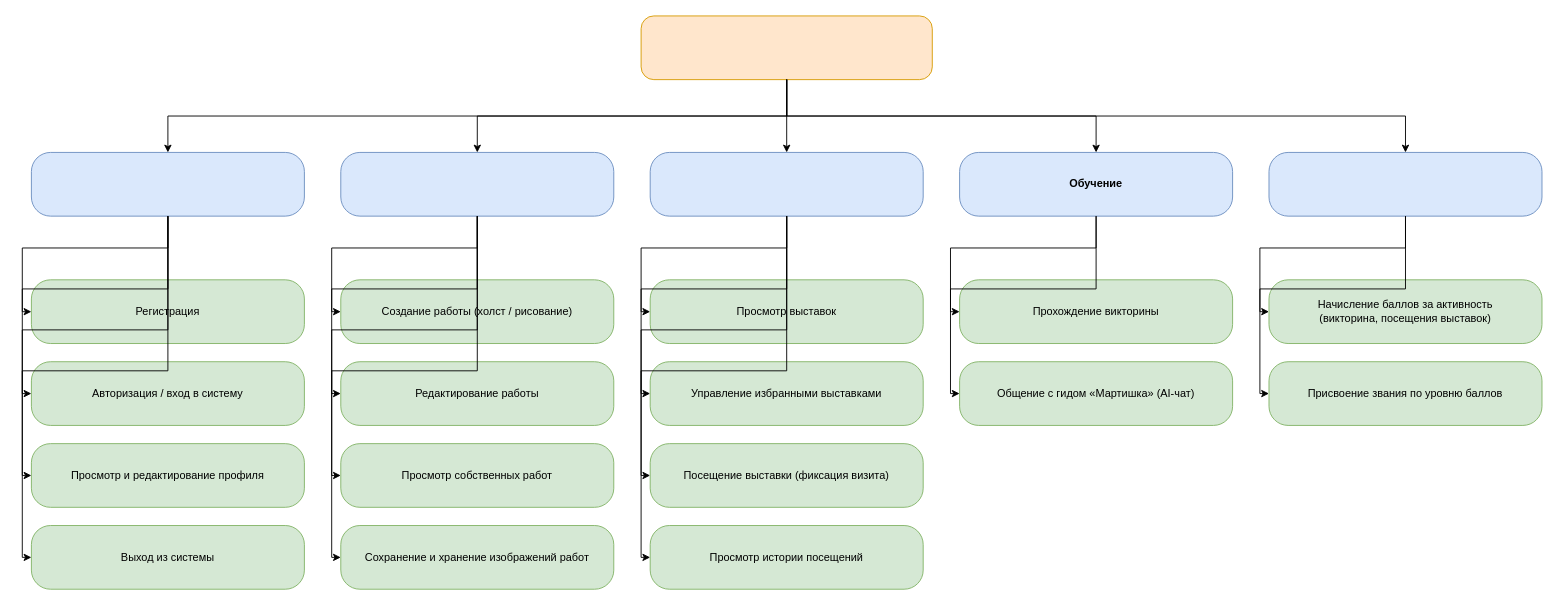
This 1558x605 diagram has some shape labels left out. Each missing label, with the centre of its shape:
Выставки: the point at 786,184
Мотивация и геймификация: the point at 1405,184
Творчество: the point at 477,184
Управление пользователями: the point at 167,184
Функциональная модель приложения «M-ART»: the point at 786,47
